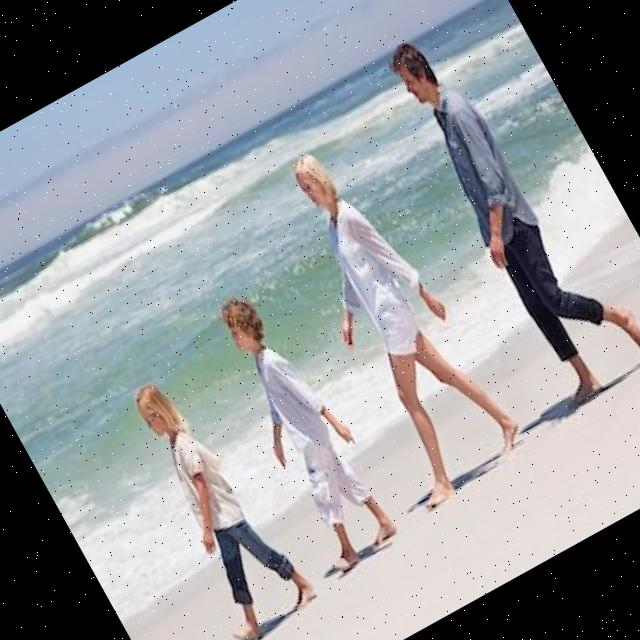Person: (248, 125, 536, 512), (375, 7, 640, 411), (196, 278, 410, 575), (106, 362, 320, 640)
